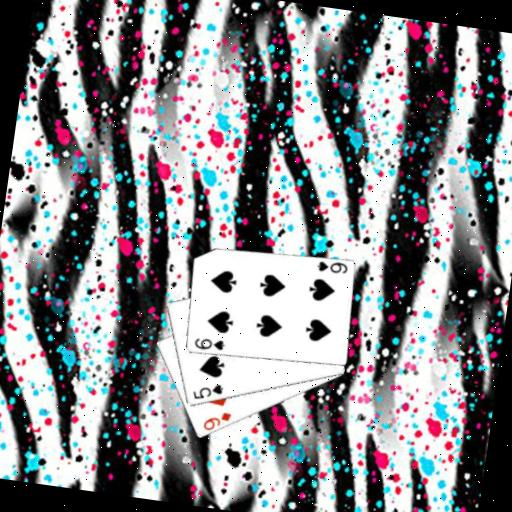5S: (188, 378, 225, 405)
6S: (191, 334, 227, 354), (314, 257, 350, 277)
9D: (199, 407, 233, 436)
